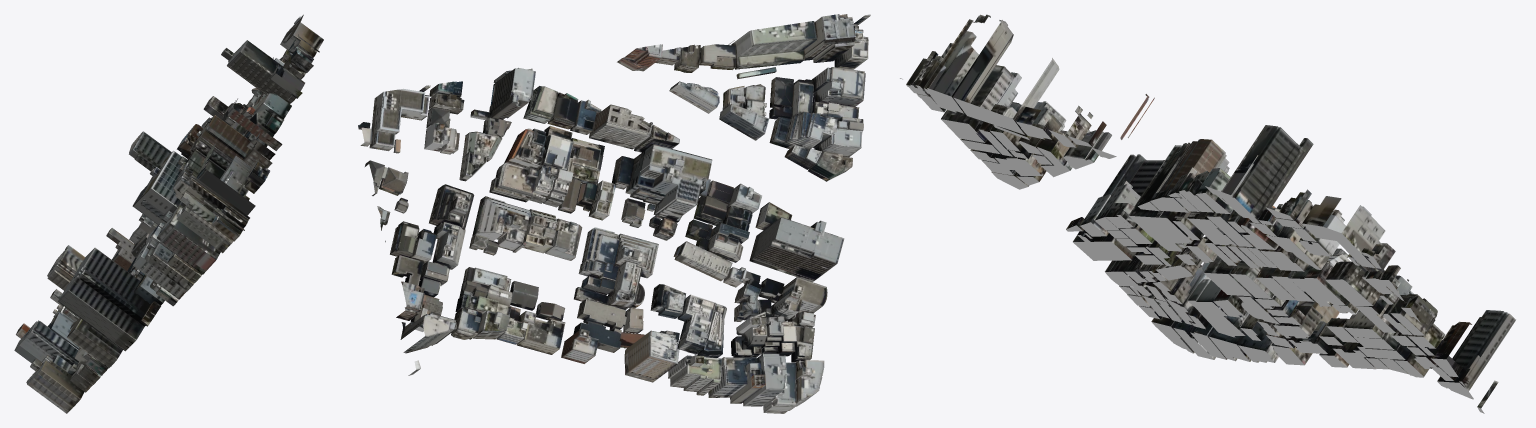
Rendered from 19761_bldg_Building.glb.
3 views of the same model, side by side, from view 1: azimuth 30°, elevation 25°; view 2: azimuth 150°, elevation 25°; view 3: azimuth 270°, elevation 25° (orthographic). The views are drawn at different scales.
Bounding box in the file's own units: 191 × 151 × 235.
3 materials, 2 textured.
